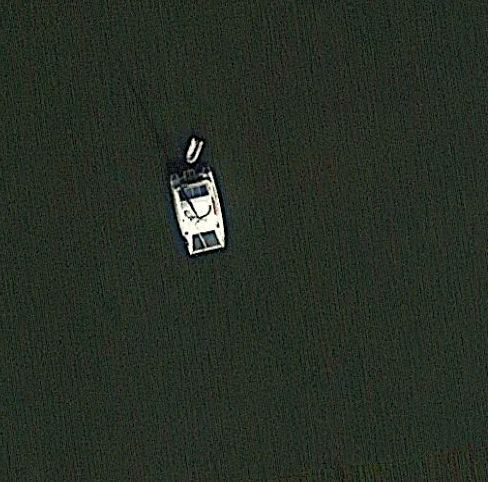boat: (166, 141, 227, 258)
